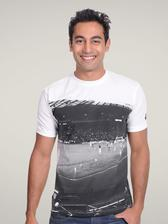clothoes: (30, 72, 153, 219)
